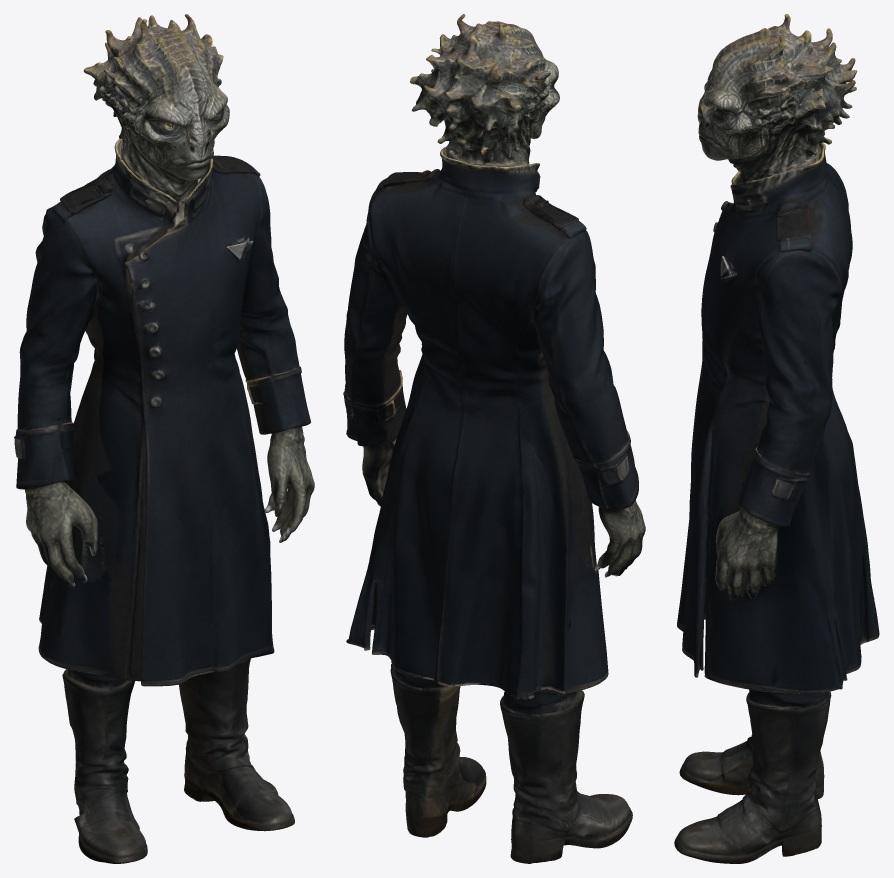
File: stratege.krath.glb
3 renders of one model, left to right at view 1: azimuth 30°, elevation 25°; view 2: azimuth 150°, elevation 25°; view 3: azimuth 270°, elevation 25°, orthographic. The views are drawn at different scales.
Parts seen in each view (by area): view 1: figur; view 2: figur; view 3: figur.
Part boxes in pixels (x1=…): figur: x1=14, y1=14, x2=314, y2=863; figur: x1=343, y1=14, x2=645, y2=863; figur: x1=674, y1=14, x2=879, y2=863.
Bounding box in the file's own units: 0.3653 × 0.9909 × 0.2301.
Materials: 1 (1 with a texture image).
